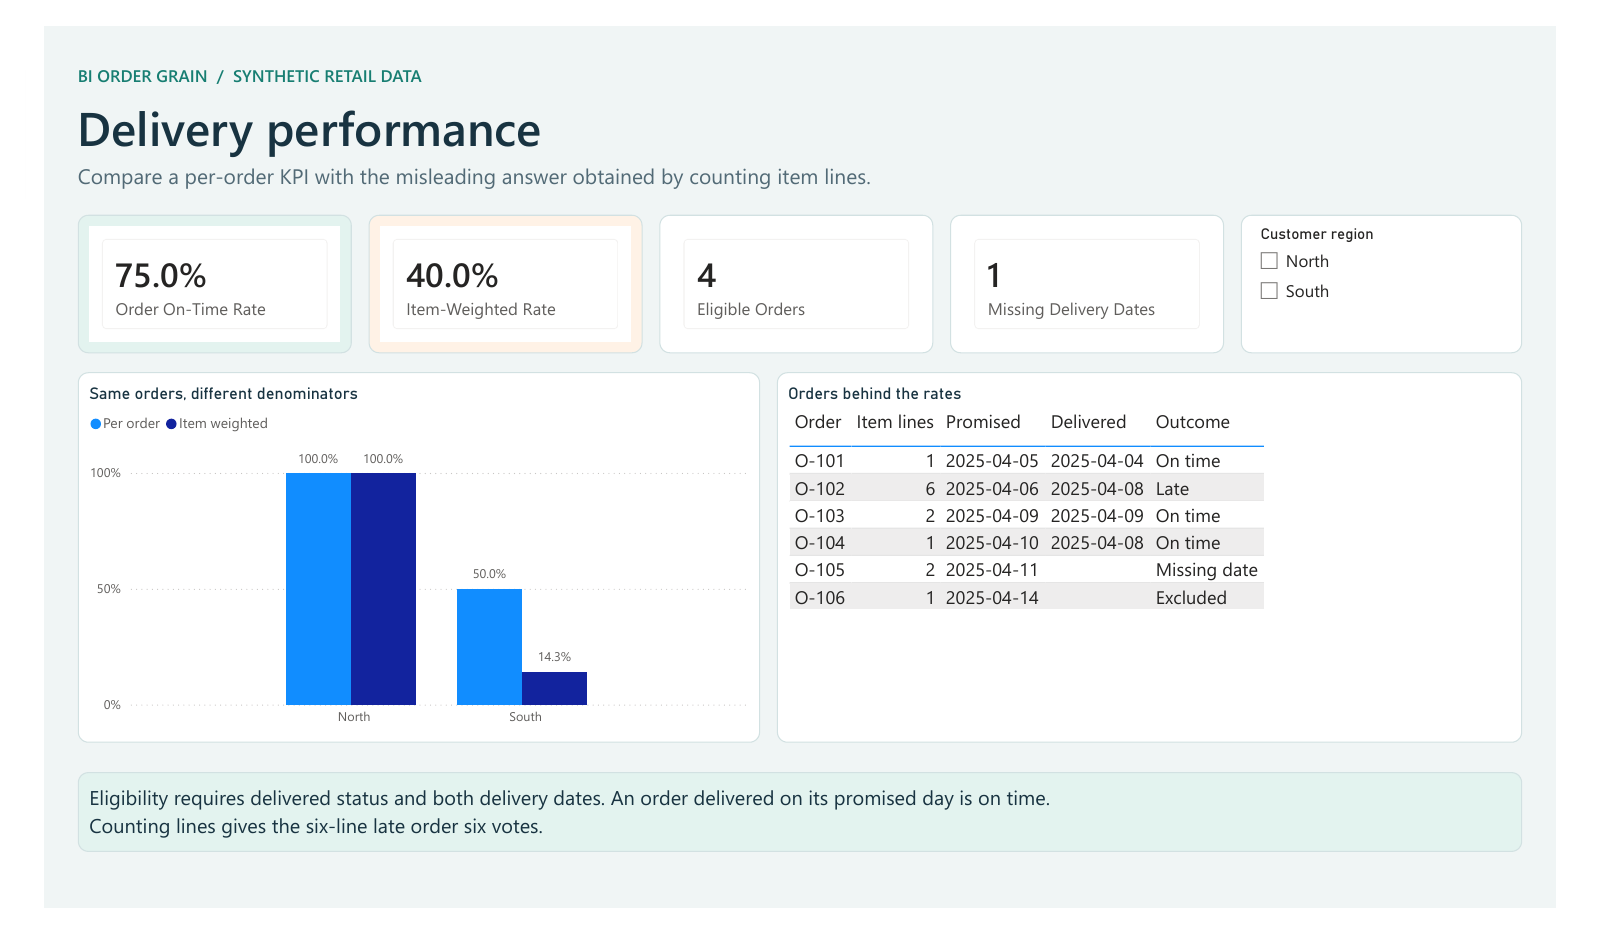

The dashboard page shown, as its layout file describes it:
{"tool":"powerbi","page":{"name":"Delivery Audit","canvas":[1440,820],"ordinal":1},"visuals":[{"type":"textbox","box":[32,17,1390,32],"z":0},{"type":"textbox","box":[32,46,1400,61],"z":1},{"type":"textbox","box":[32,109,1400,35],"z":2},{"type":"cardVisual","fields":{"Data":["FactOrder.Order On-Time Rate"]},"box":[32,160,261,132],"z":3},{"type":"cardVisual","fields":{"Data":["FactOrder.Item-Weighted Rate"]},"box":[309,160,261,132],"z":4},{"type":"cardVisual","fields":{"Data":["FactOrder.Eligible Orders"]},"box":[586,160,261,132],"z":5},{"type":"cardVisual","fields":{"Data":["FactOrder.Missing Delivery Dates"]},"box":[863,160,261,132],"z":6},{"type":"slicer","fields":{"Values":["DimCustomer.region"]},"box":[1140,160,268,132],"z":7},{"type":"clusteredColumnChart","title":"Same orders, different denominators","fields":{"Category":["DimCustomer.region"],"Y":["FactOrder.Order On-Time Rate","FactOrder.Item-Weighted Rate"]},"box":[32,310,650,353],"z":8},{"type":"tableEx","title":"Orders behind the rates","fields":{"Values":["FactOrder.order_id","FactOrder.item_lines","FactOrder.promised_on","FactOrder.delivered_on","FactOrder.delivery_result"]},"box":[698,310,710,353],"z":9},{"type":"textbox","box":[32,691,1376,76],"z":10}]}

Visuals, with their boxes in screenshot pixels (x1, y1, x2, y2), scaled from the page's 1440x820 canvas onto the 1600x934 screenshot:
textbox: Rect(36, 19, 1580, 56)
textbox: Rect(36, 52, 1591, 122)
textbox: Rect(36, 124, 1591, 164)
cardVisual - FactOrder.Order On-Time Rate: Rect(36, 182, 326, 333)
cardVisual - FactOrder.Item-Weighted Rate: Rect(343, 182, 633, 333)
cardVisual - FactOrder.Eligible Orders: Rect(651, 182, 941, 333)
cardVisual - FactOrder.Missing Delivery Dates: Rect(959, 182, 1249, 333)
slicer - DimCustomer.region: Rect(1267, 182, 1564, 333)
"Same orders, different denominators" clusteredColumnChart: Rect(36, 353, 758, 755)
"Orders behind the rates" tableEx: Rect(776, 353, 1564, 755)
textbox: Rect(36, 787, 1564, 874)
